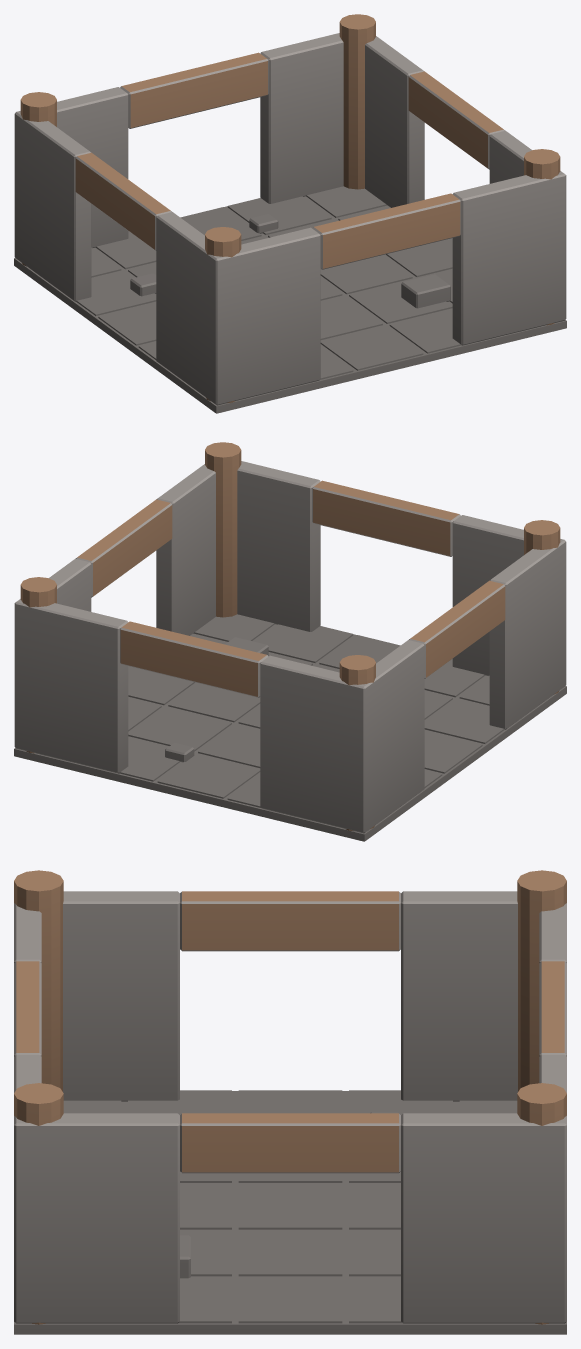
The model's file is DM_crypt_rS_X_a.glb.
The picture shows the model from 3 angles, top to bottom: view 1: azimuth 30°, elevation 25°; view 2: azimuth 150°, elevation 25°; view 3: azimuth 270°, elevation 25°; orthographic projection. The views are drawn at different scales.
Parts seen in each view (by area): view 1: DM_crypt_rS_X_a; view 2: DM_crypt_rS_X_a; view 3: DM_crypt_rS_X_a.
Boxes of the visible parts, x1=… form: DM_crypt_rS_X_a: x1=14, y1=14, x2=566, y2=413; DM_crypt_rS_X_a: x1=14, y1=442, x2=566, y2=841; DM_crypt_rS_X_a: x1=14, y1=870, x2=566, y2=1334.
Size of the model in its own units: 10 by 4.6 by 10.
